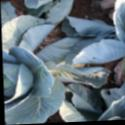cabbage: (2, 61, 28, 98)
